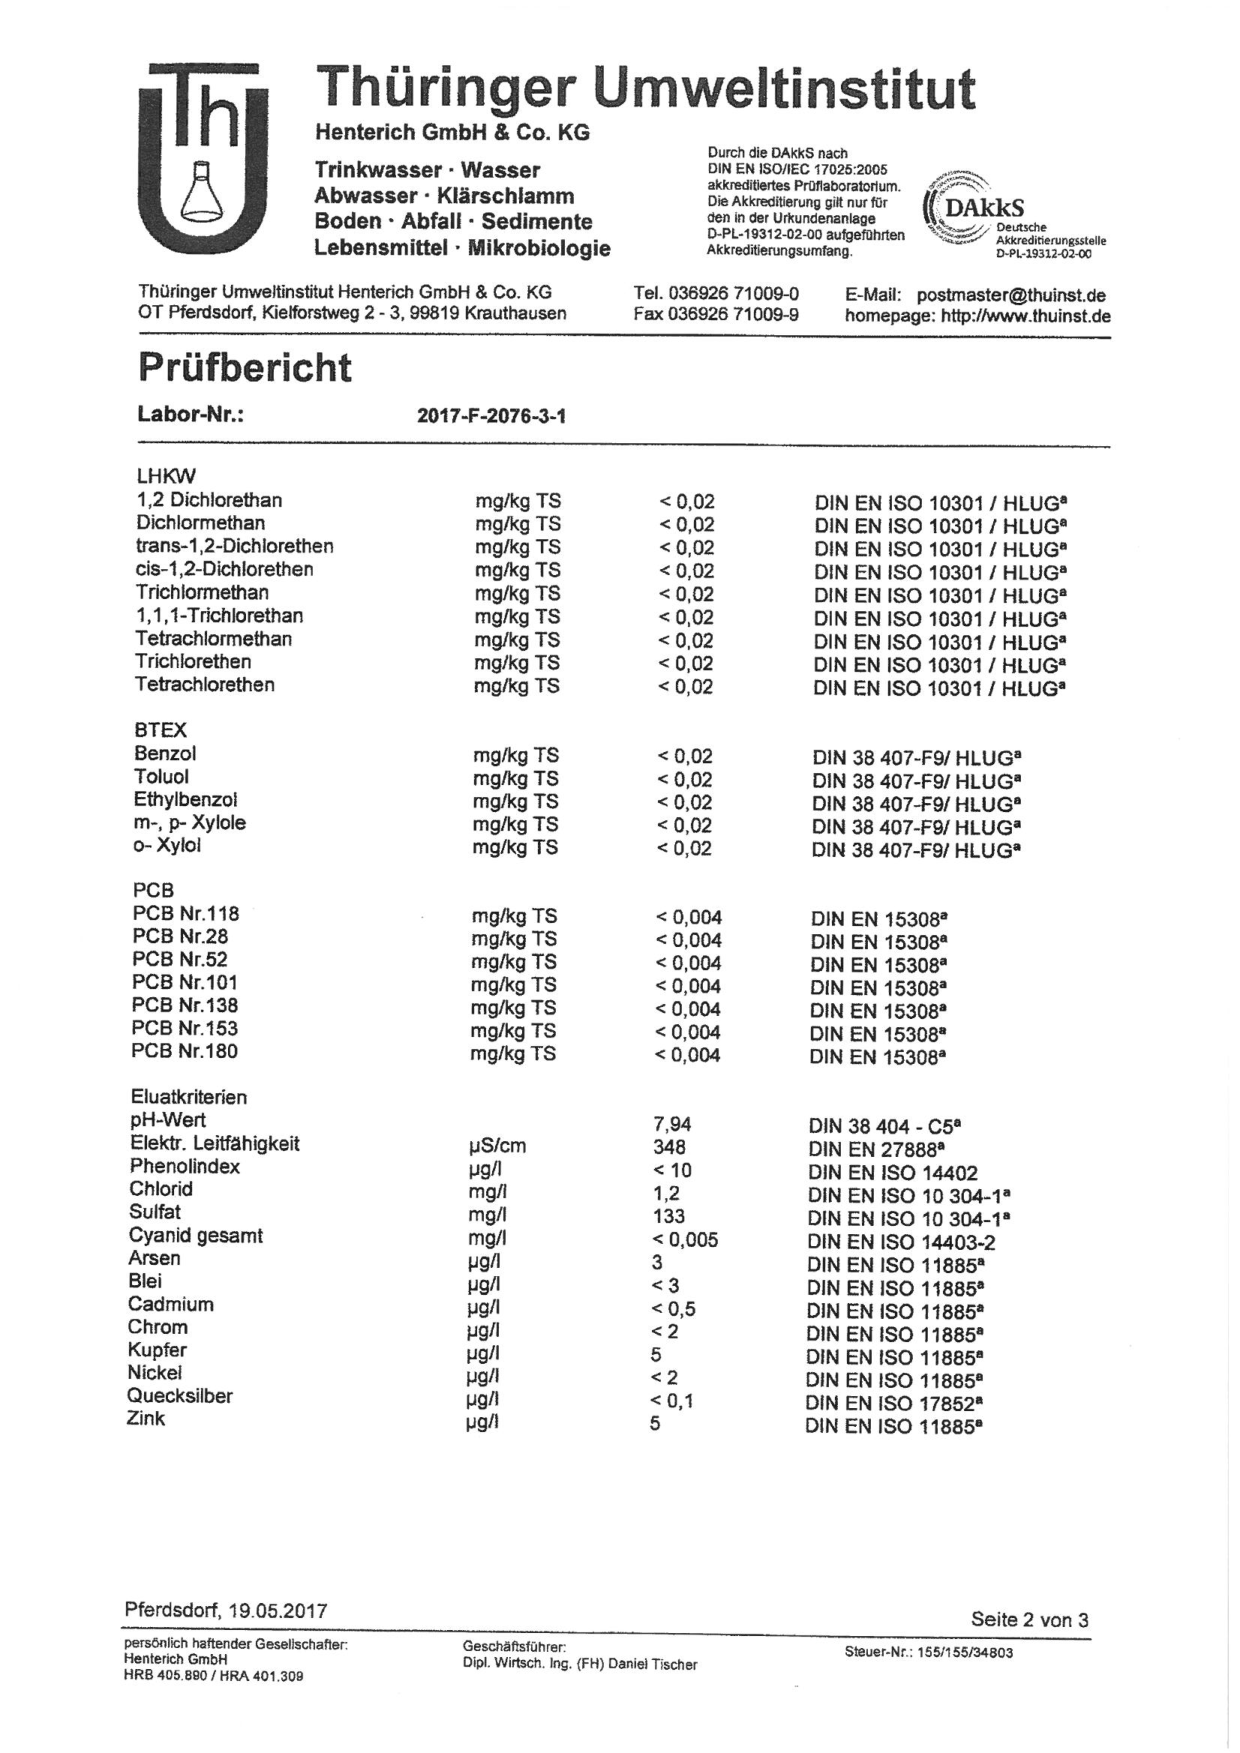table: (93, 1078, 1023, 1459), (119, 454, 1096, 703), (97, 874, 966, 1072), (107, 709, 1056, 864)
